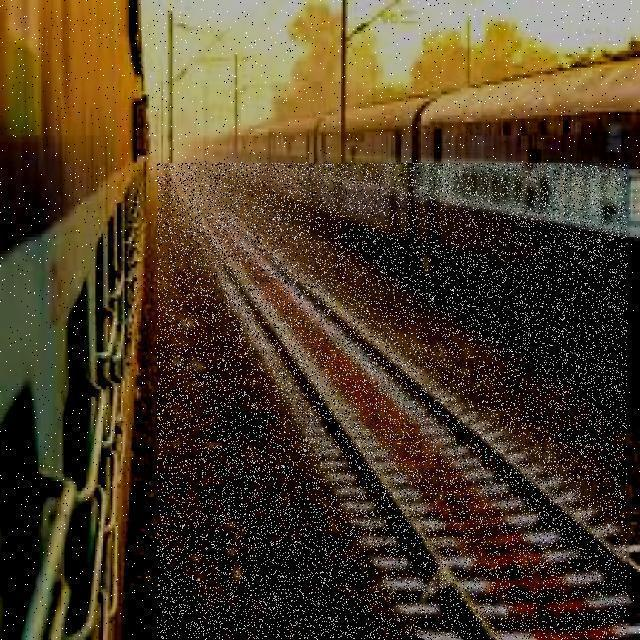rail: (158, 165, 628, 640)
